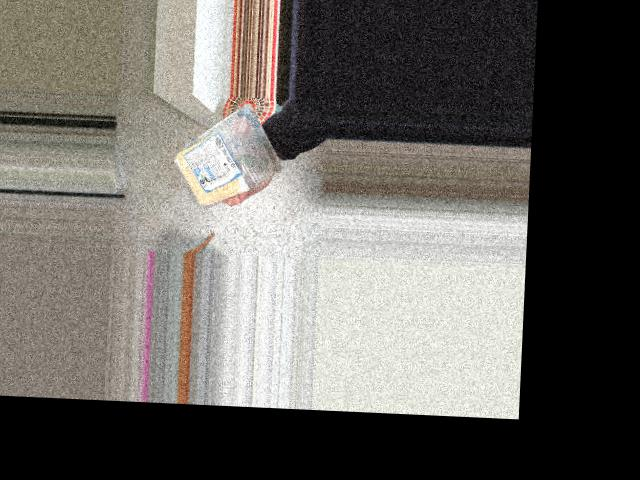cheese: (168, 110, 271, 196)
